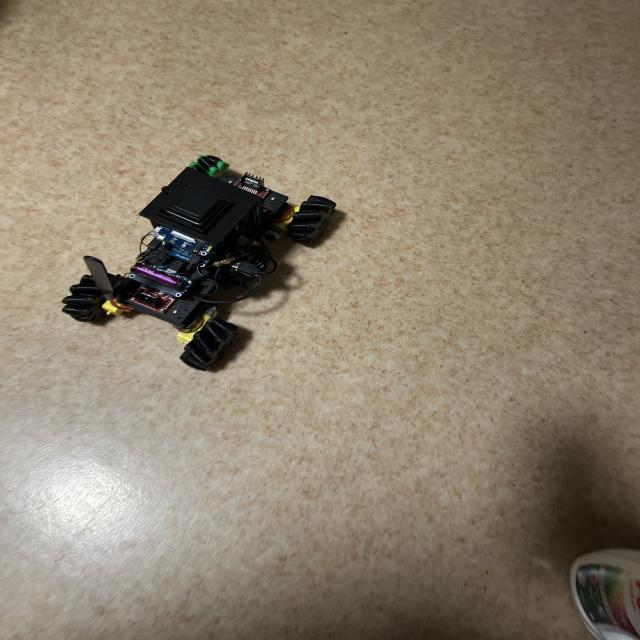robot: (62, 155, 335, 370)
